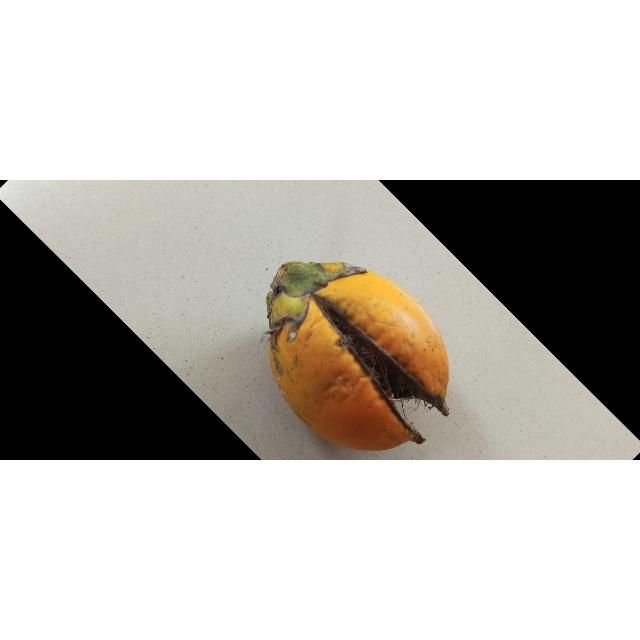damaged: (266, 262, 451, 453)
